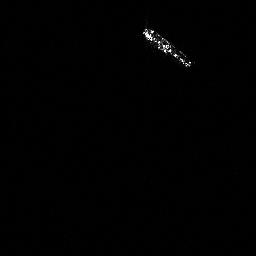ship: (138, 26, 194, 69)
